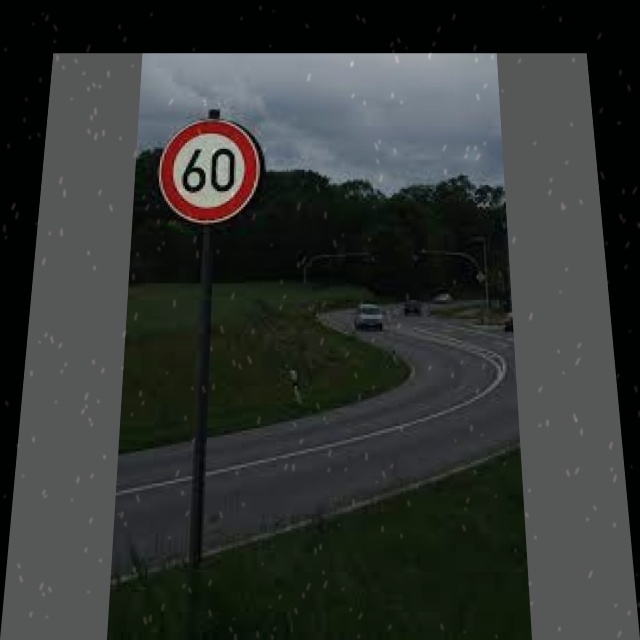Speed_Limit_60: (155, 117, 262, 222)
